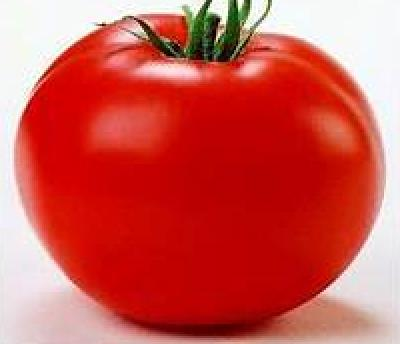tomato: (14, 11, 383, 327)
